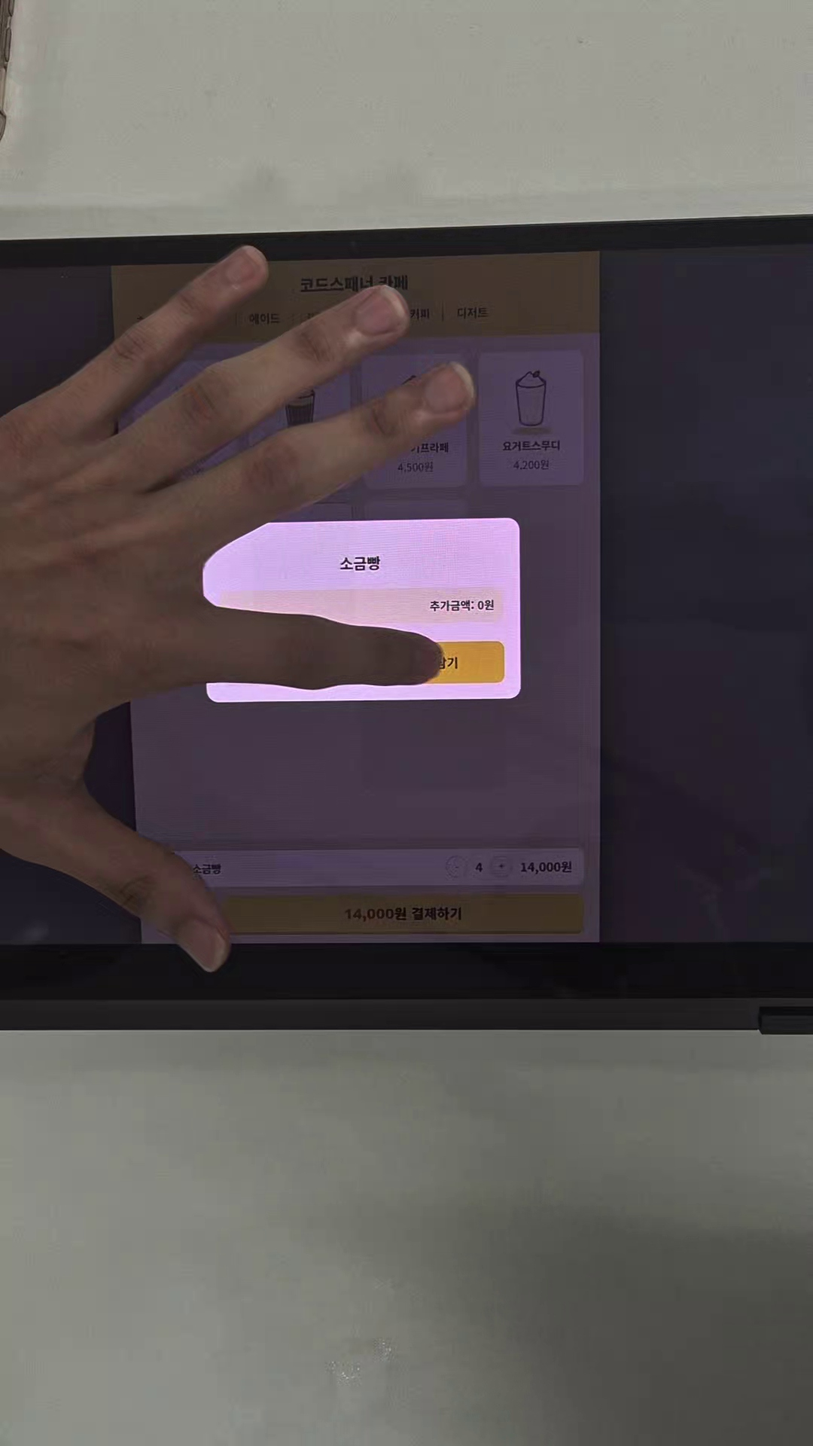popup_modal: (204, 519, 521, 704)
